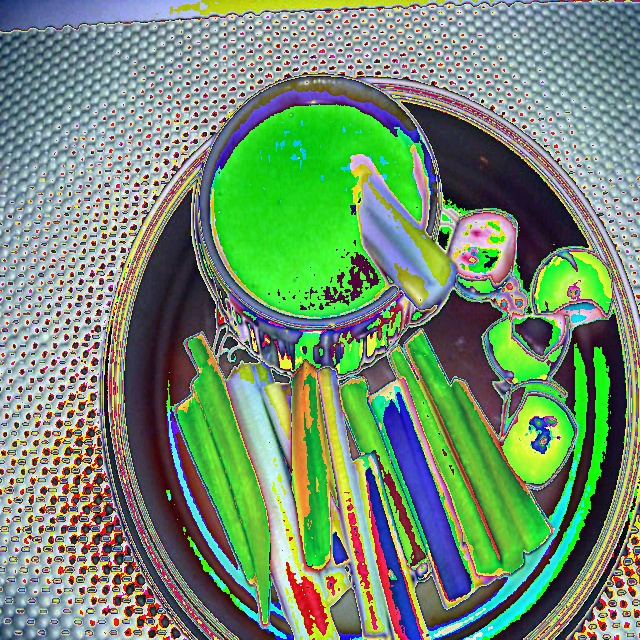background: (173, 247, 614, 639), (212, 95, 518, 319)
